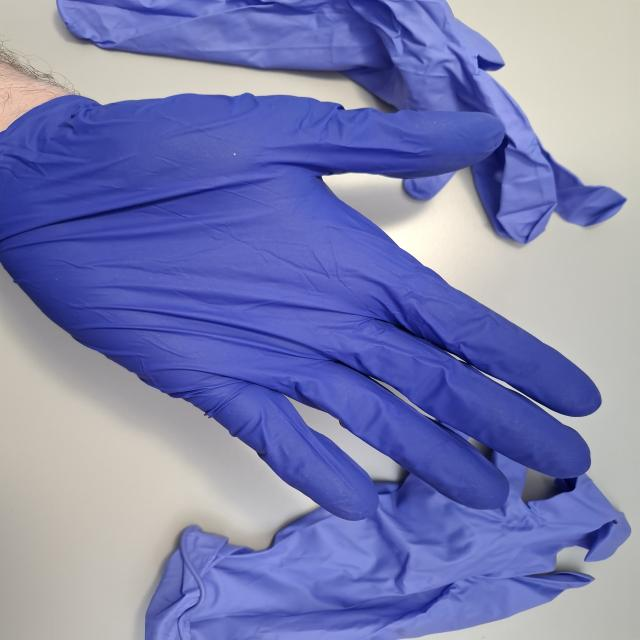glove_on: (0, 87, 605, 523)
